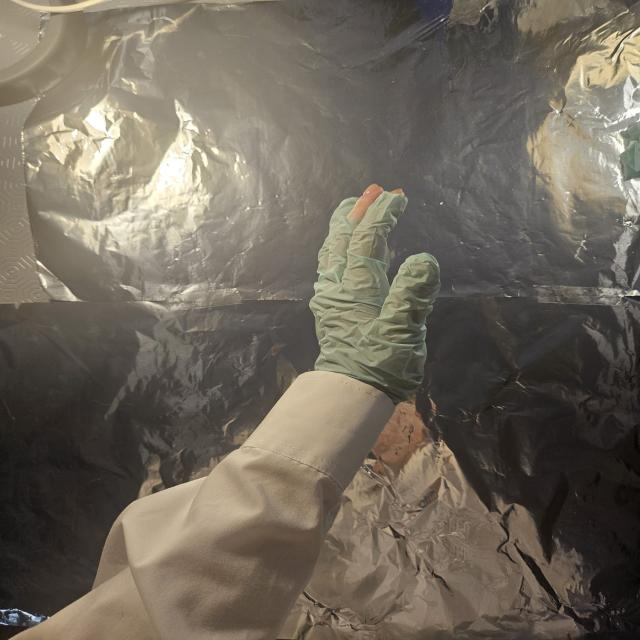gloves_damaged: (305, 180, 442, 408)
